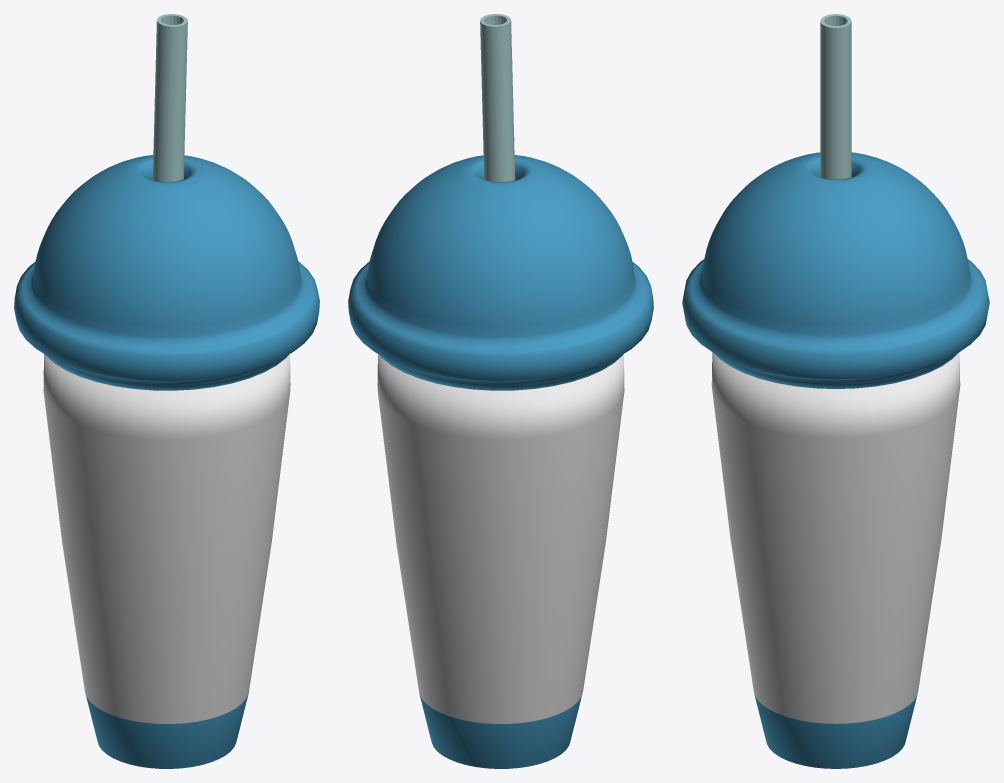
File: Cup.fbx
3 views of the same model, side by side, from view 1: azimuth 30°, elevation 25°; view 2: azimuth 150°, elevation 25°; view 3: azimuth 270°, elevation 25° (orthographic).
Visible parts, largest first — view 1: pCylinder1, pSphere1, pCylinder2; view 2: pCylinder1, pSphere1, pCylinder2; view 3: pCylinder1, pSphere1, pCylinder2.
Boxes of the visible parts, <box> form: pCylinder1: <box>43,354,290,768</box>; pSphere1: <box>14,155,319,390</box>; pCylinder2: <box>152,14,187,182</box>; pCylinder1: <box>377,354,624,768</box>; pSphere1: <box>348,155,653,390</box>; pCylinder2: <box>480,14,515,182</box>; pCylinder1: <box>711,352,960,768</box>; pSphere1: <box>682,152,989,388</box>; pCylinder2: <box>820,14,851,179</box>.
Size of the model in its own units: 3.93 by 10.16 by 3.93.
